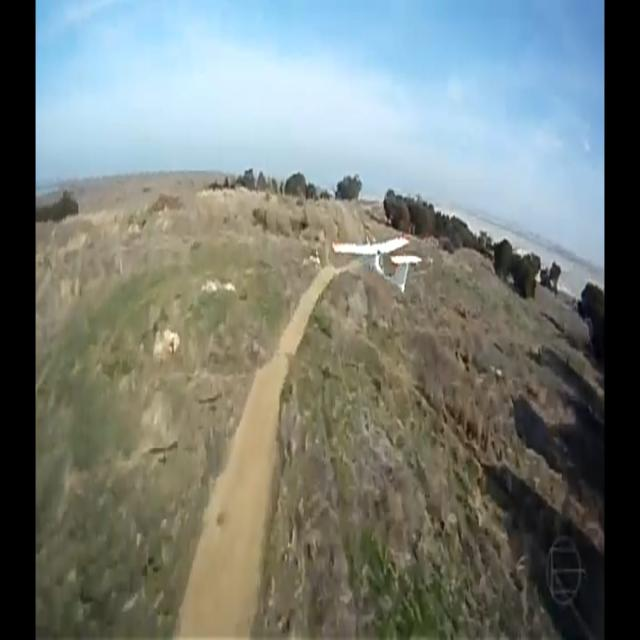iha: (365, 229, 391, 289)
